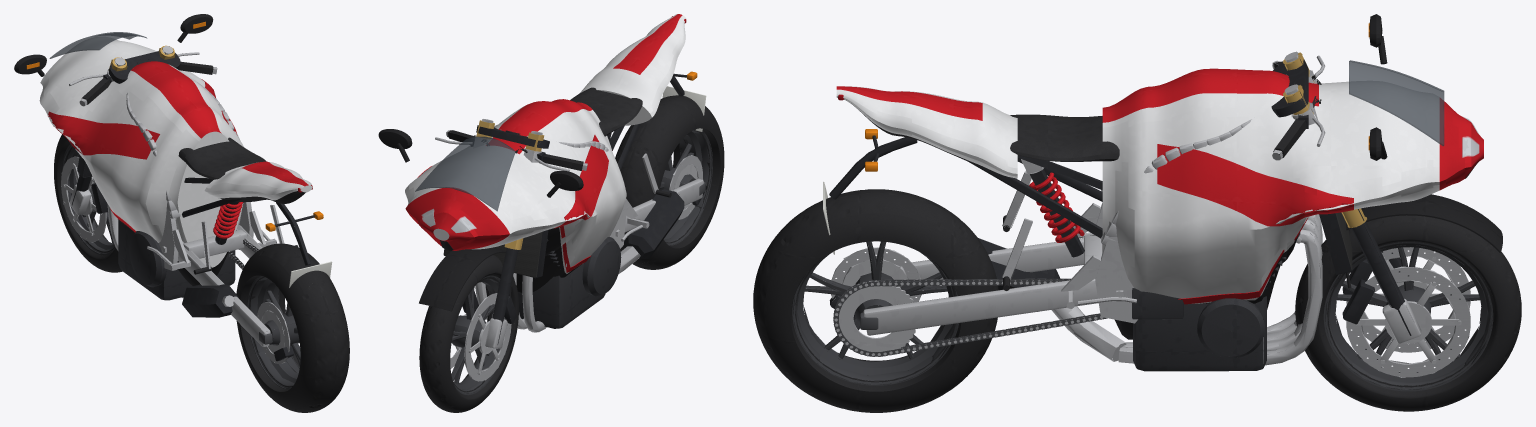
Rendered from superbike-high.glb.
3 views of the same model, side by side, from view 1: azimuth 30°, elevation 25°; view 2: azimuth 150°, elevation 25°; view 3: azimuth 270°, elevation 25° (orthographic). The views are drawn at different scales.
Visible parts, largest first — view 1: Fairing paint, white body, Tyre rubber wheelRear, Fairing paint, red body, Aluminium frame spars body, Satin black body, Engine castings, black body, Wheel paint, dark grey wheelRear, Seat, black vinyl body, Cast aluminium body, Fairing paint, gloss black body, Tyre rubber wheelFront, Wheel paint, dark grey wheelFront (+9 smaller); view 2: Fairing paint, white body, Fairing paint, red body, Tyre rubber wheelRear, Tyre rubber wheelFront, Fairing paint, gloss black body, Engine castings, black body, Windscreen, smoked (alpha-blended) body, Satin black body, Wheel paint, dark grey wheelRear, Wheel paint, dark grey wheelFront, Seat, black vinyl body, Satin black steering (+13 smaller); view 3: Fairing paint, white body, Tyre rubber wheelRear, Fairing paint, red body, Tyre rubber wheelFront, Aluminium frame spars body, Engine castings, black body, Wheel paint, dark grey wheelFront, Wheel paint, dark grey wheelRear, Satin black body, Brake disc steel wheelFront, Fairing paint, gloss black body, Windscreen, smoked (alpha-blended) body (+11 smaller).
Boxes of the visible parts, x1,y1,x2,y2 form: Fairing paint, white body: [39, 37, 312, 267]; Tyre rubber wheelRear: [236, 243, 349, 412]; Fairing paint, red body: [48, 61, 308, 238]; Aluminium frame spars body: [126, 80, 270, 346]; Satin black body: [103, 51, 314, 361]; Engine castings, black body: [118, 220, 235, 300]; Wheel paint, dark grey wheelRear: [247, 275, 300, 389]; Seat, black vinyl body: [178, 137, 266, 179]; Cast aluminium body: [69, 46, 284, 270]; Fairing paint, gloss black body: [14, 14, 305, 285]; Tyre rubber wheelFront: [54, 134, 122, 272]; Wheel paint, dark grey wheelFront: [61, 143, 115, 255]; Fairing paint, white body: [405, 14, 686, 273]; Fairing paint, red body: [405, 14, 682, 272]; Tyre rubber wheelRear: [615, 95, 724, 269]; Tyre rubber wheelFront: [419, 255, 518, 412]; Fairing paint, gloss black body: [378, 129, 583, 311]; Engine castings, black body: [485, 237, 621, 328]; Windscreen, smoked (alpha-blended) body: [415, 136, 515, 211]; Satin black body: [471, 73, 706, 258]; Wheel paint, dark grey wheelRear: [660, 129, 712, 245]; Wheel paint, dark grey wheelFront: [451, 275, 500, 395]; Seat, black vinyl body: [570, 87, 642, 136]; Satin black steering: [443, 230, 548, 344]; Fairing paint, white body: [836, 81, 1439, 303]; Tyre rubber wheelRear: [753, 189, 998, 412]; Fairing paint, red body: [836, 68, 1483, 304]; Tyre rubber wheelFront: [1295, 215, 1521, 411]; Aluminium frame spars body: [863, 74, 1286, 335]; Engine castings, black body: [1132, 232, 1300, 371]; Wheel paint, dark grey wheelFront: [1323, 242, 1493, 391]; Wheel paint, dark grey wheelRear: [792, 241, 958, 385]; Satin black body: [829, 59, 1308, 317]; Brake disc steel wheelFront: [1346, 247, 1470, 377]; Fairing paint, gloss black body: [837, 14, 1502, 339]; Windscreen, smoked (alpha-blended) body: [1349, 60, 1444, 146].
Size of the model in its own units: 0.8744 by 1.03 by 2.09.
Materials: 22 (22 with a texture image).
